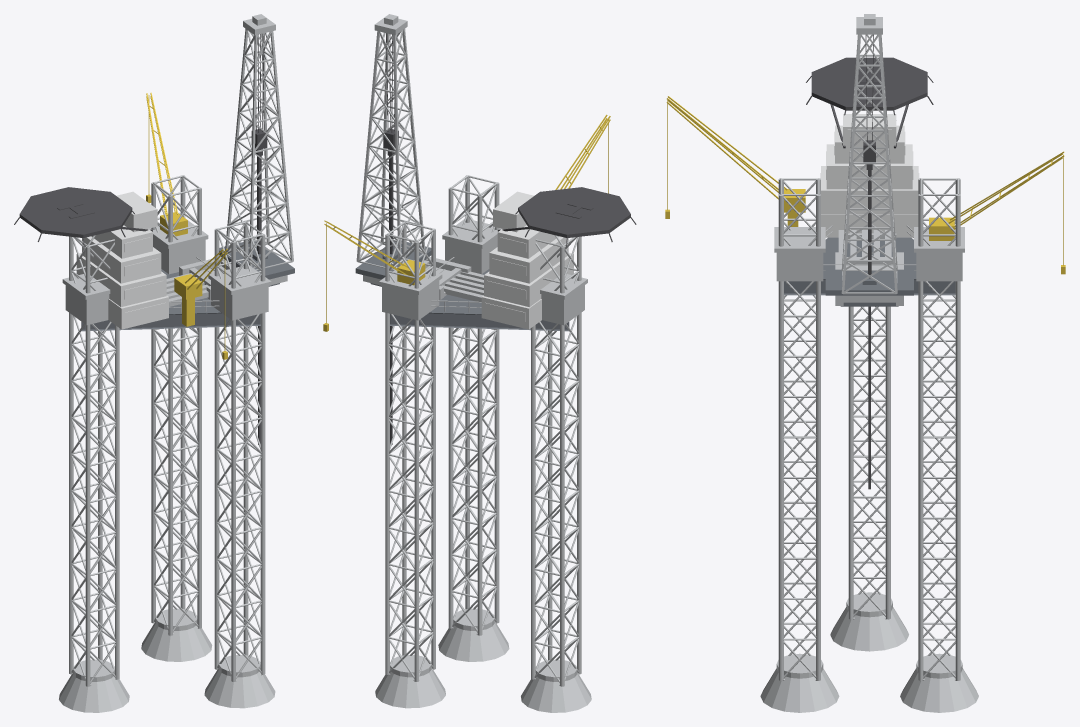
Rendered from offshore-rig-hero.glb.
3 renders of one model, left to right at view 1: azimuth 30°, elevation 25°; view 2: azimuth 150°, elevation 25°; view 3: azimuth 270°, elevation 25°, orthographic. The views are drawn at different scales.
Visible parts, largest first — view 1: GEO-rig-leg-c, GEO-rig-leg-a, GEO-rig-leg-b, GEO-rig-derrick, GEO-rig-accom, GEO-rig-deckdetail, GEO-rig-helideck, GEO-rig-cranes, GEO-rig-hull, GEO-rig-drillstring, GEO-rig-drillfloor, GEO-rig-cantilever; view 2: GEO-rig-leg-b, GEO-rig-leg-a, GEO-rig-leg-c, GEO-rig-derrick, GEO-rig-accom, GEO-rig-deckdetail, GEO-rig-helideck, GEO-rig-hull, GEO-rig-cranes, GEO-rig-drillstring, GEO-rig-drillfloor, GEO-rig-cantilever; view 3: GEO-rig-leg-b, GEO-rig-leg-c, GEO-rig-leg-a, GEO-rig-accom, GEO-rig-derrick, GEO-rig-deckdetail, GEO-rig-helideck, GEO-rig-cranes, GEO-rig-drillfloor, GEO-rig-hull, GEO-rig-drillstring, GEO-rig-cantilever.
Boxes of the visible parts, x1,y1,x2,y2 form: GEO-rig-leg-c: [204, 221, 275, 708]; GEO-rig-leg-a: [59, 235, 129, 712]; GEO-rig-leg-b: [141, 175, 212, 661]; GEO-rig-derrick: [225, 14, 293, 270]; GEO-rig-accom: [74, 191, 168, 329]; GEO-rig-deckdetail: [62, 220, 271, 325]; GEO-rig-helideck: [14, 187, 152, 247]; GEO-rig-cranes: [146, 92, 227, 359]; GEO-rig-hull: [81, 269, 260, 331]; GEO-rig-drillstring: [251, 33, 267, 444]; GEO-rig-drillfloor: [219, 239, 294, 286]; GEO-rig-cantilever: [179, 257, 287, 299]; GEO-rig-leg-b: [375, 221, 445, 708]; GEO-rig-leg-a: [521, 235, 591, 712]; GEO-rig-leg-c: [438, 175, 509, 661]; GEO-rig-derrick: [356, 14, 425, 270]; GEO-rig-accom: [481, 191, 576, 329]; GEO-rig-deckdetail: [379, 219, 587, 325]; GEO-rig-helideck: [497, 187, 636, 247]; GEO-rig-hull: [390, 269, 571, 331]; GEO-rig-cranes: [323, 114, 610, 331]; GEO-rig-drillstring: [383, 33, 398, 444]; GEO-rig-drillfloor: [355, 239, 431, 286]; GEO-rig-cantilever: [363, 256, 471, 299]; GEO-rig-leg-b: [900, 178, 978, 712]; GEO-rig-leg-c: [760, 178, 839, 712]; GEO-rig-leg-a: [830, 306, 908, 651]; GEO-rig-accom: [820, 114, 919, 237]; GEO-rig-derrick: [841, 14, 897, 294]; GEO-rig-deckdetail: [774, 225, 964, 281]; GEO-rig-helideck: [806, 57, 933, 148]; GEO-rig-cranes: [665, 96, 1065, 274]; GEO-rig-drillfloor: [825, 269, 913, 306]; GEO-rig-hull: [784, 237, 955, 295]; GEO-rig-drillstring: [863, 34, 875, 489]; GEO-rig-cantilever: [835, 252, 903, 305].
Size of the model in its own units: 28.01 by 67.1 by 34.43.
